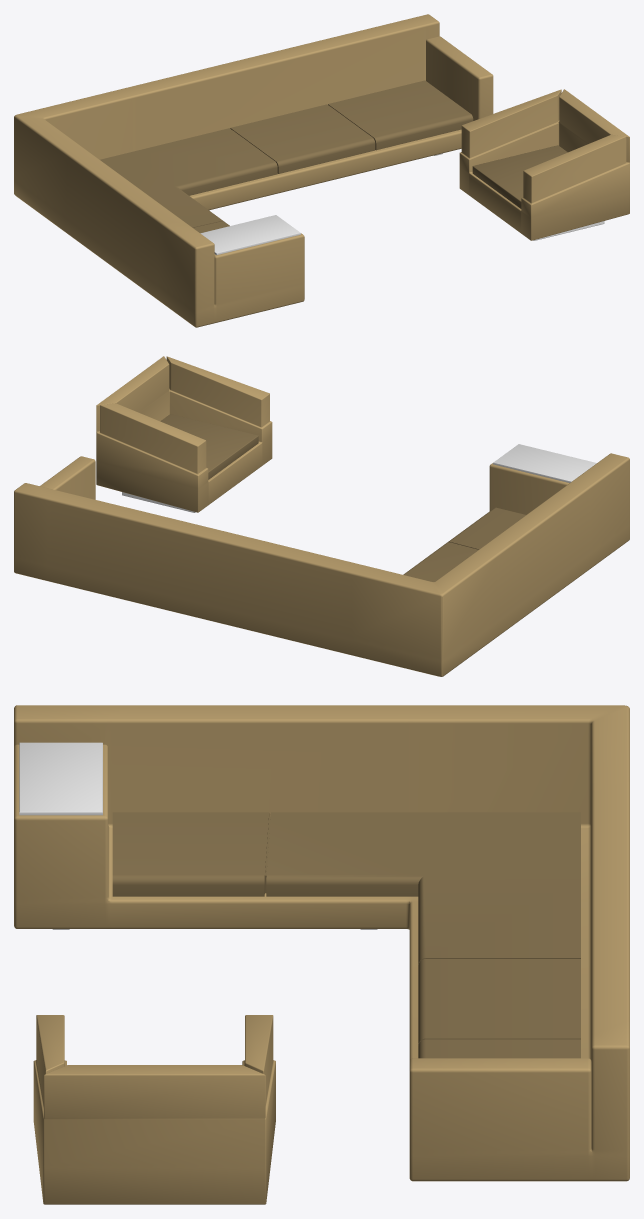
The model's file is sofas.fbx.
3 views of the same model, one above another, from view 1: azimuth 30°, elevation 25°; view 2: azimuth 150°, elevation 25°; view 3: azimuth 270°, elevation 25° (orthographic). The views are drawn at different scales.
Visible parts, largest first — view 1: Cube, Cube.001; view 2: Cube, Cube.001; view 3: Cube, Cube.001.
Boxes of the visible parts, x1,y1,x2,y2 form: Cube: [14, 14, 493, 327]; Cube.001: [459, 89, 629, 240]; Cube: [14, 444, 629, 676]; Cube.001: [96, 356, 272, 512]; Cube: [14, 705, 629, 1181]; Cube.001: [33, 1015, 275, 1204].
Size of the model in its own units: 986 by 181 by 703.
